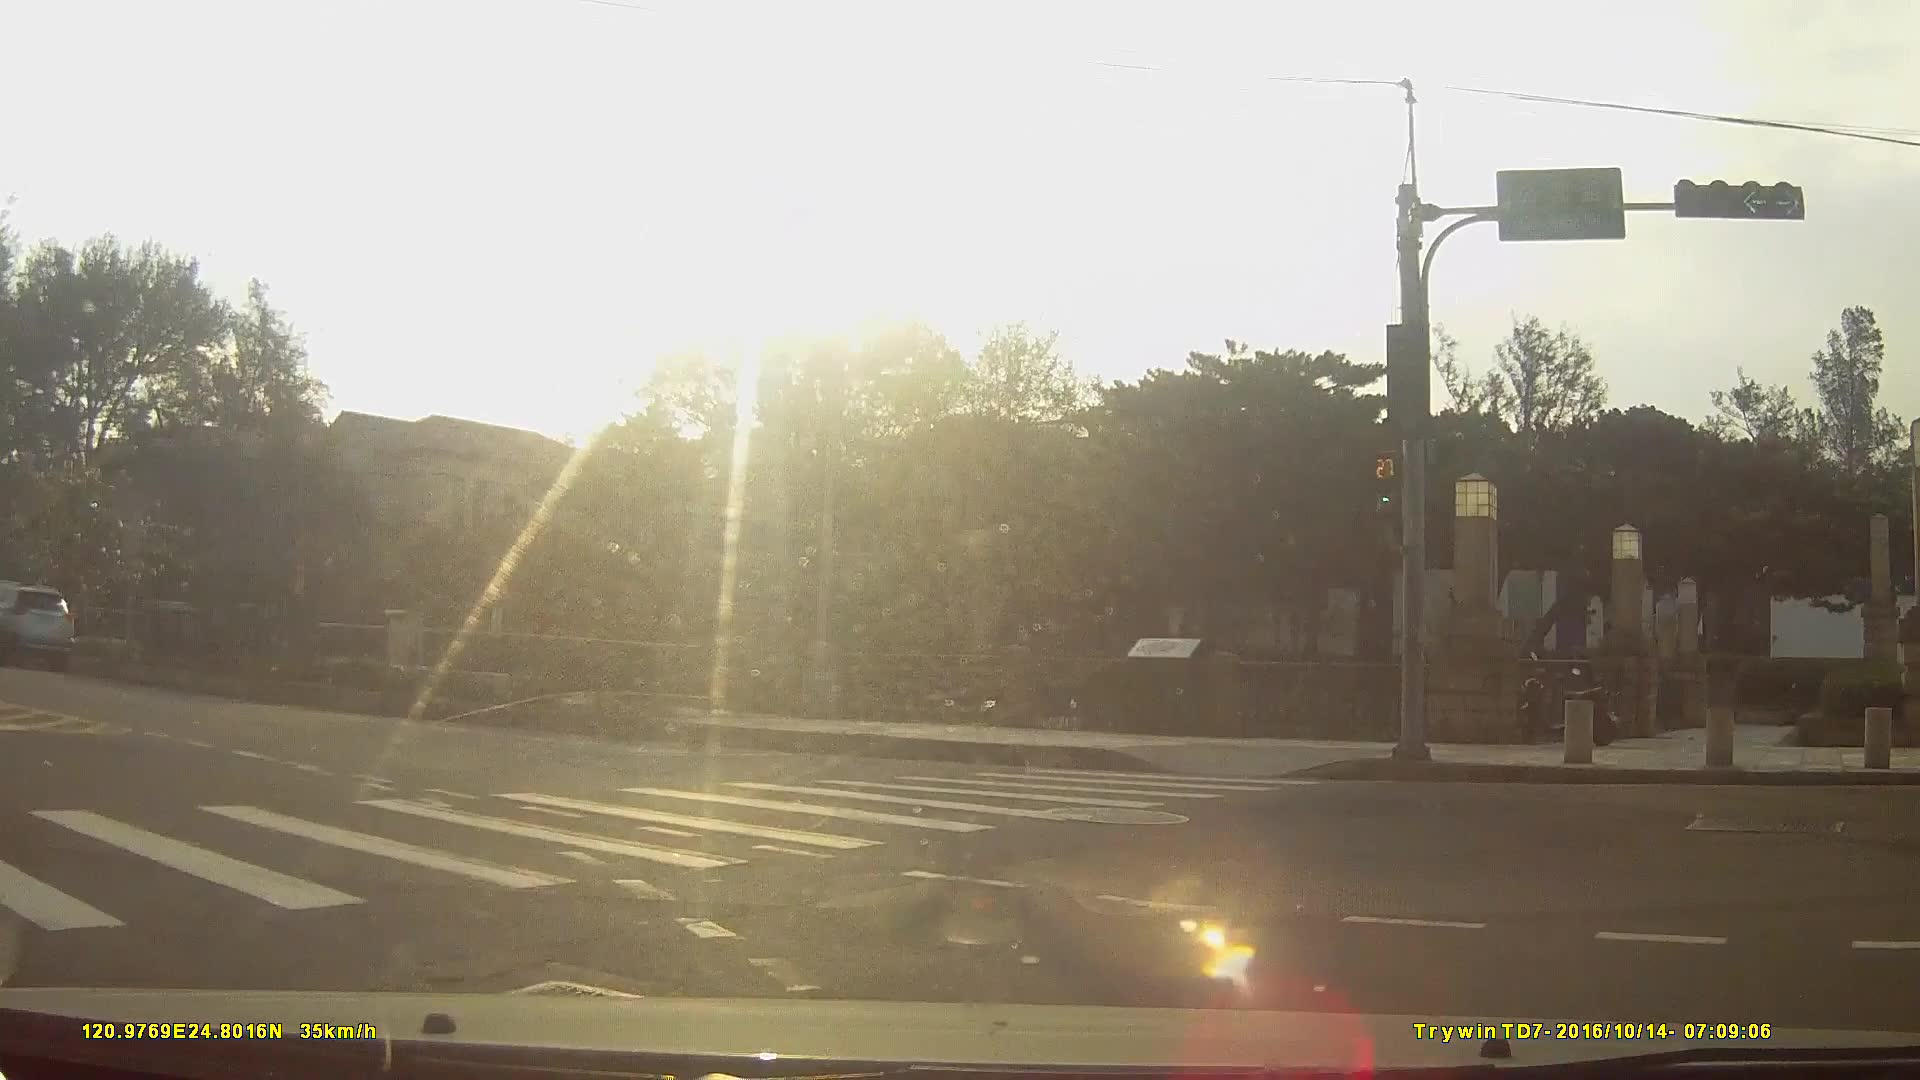vehicle: (0, 582, 76, 671)
